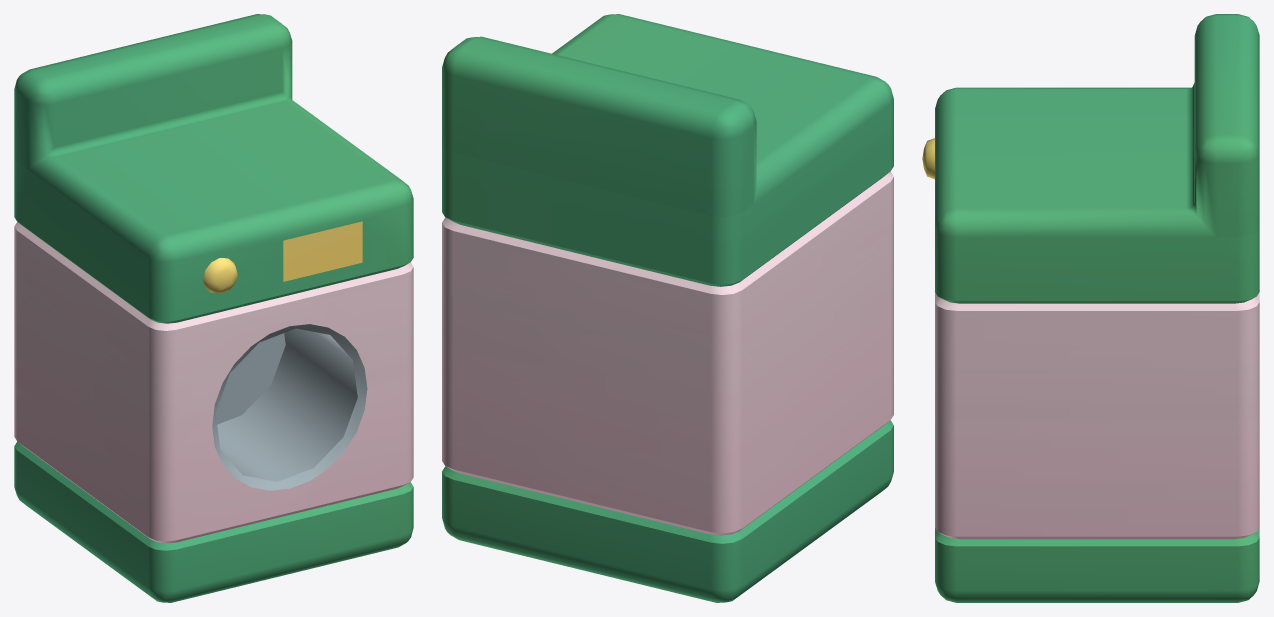
The model's file is Washing_Machine_04.glb.
3 views of the same model, side by side, from view 1: azimuth 30°, elevation 25°; view 2: azimuth 150°, elevation 25°; view 3: azimuth 270°, elevation 25° (orthographic). The views are drawn at different scales.
Visible parts, largest first — view 1: Washing_Machine_04; view 2: Washing_Machine_04; view 3: Washing_Machine_04.
Part boxes in pixels (left/top/right/bottom): Washing_Machine_04: left=14, top=14, right=413, bottom=602; Washing_Machine_04: left=442, top=14, right=893, bottom=602; Washing_Machine_04: left=922, top=14, right=1259, bottom=602.
Bounding box in the file's own units: 0.6 × 0.95 × 0.6232.
Materials: 1 (1 with a texture image).
